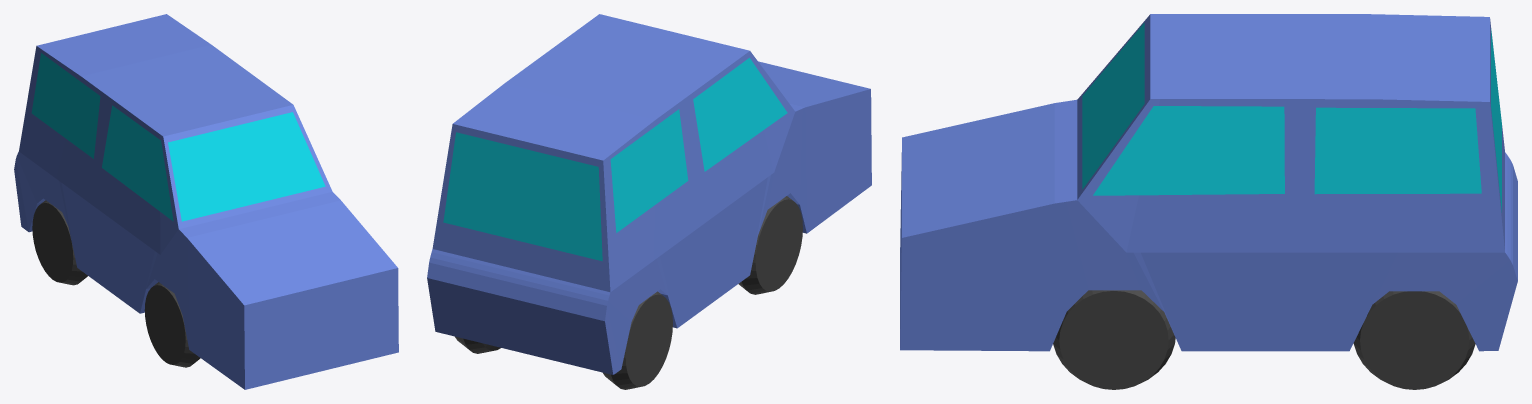
File: BlueVan.fbx
The picture shows the model from 3 angles, left to right: view 1: azimuth 30°, elevation 25°; view 2: azimuth 150°, elevation 25°; view 3: azimuth 270°, elevation 25°; orthographic projection. The views are drawn at different scales.
Parts seen in each view (by area): view 1: Cube, Plane, Plane.003, Plane.005, Cylinder, Cylinder.001; view 2: Cube, Plane.001, Plane.003, Plane.005, Cylinder.001, Cylinder; view 3: Cube, Plane.002, Plane.004, Cylinder, Cylinder.001, Plane, Plane.001.
Part boxes in pixels (x1,y1,x2,y2): Cube: [14, 14, 398, 389]; Plane: [168, 112, 325, 221]; Plane.003: [102, 105, 173, 221]; Plane.005: [31, 53, 100, 158]; Cylinder: [144, 282, 200, 367]; Cylinder.001: [32, 200, 87, 285]; Cube: [427, 14, 871, 374]; Plane.001: [443, 132, 602, 261]; Plane.003: [693, 58, 787, 171]; Plane.005: [610, 109, 688, 232]; Cylinder.001: [455, 291, 672, 389]; Cylinder: [738, 196, 802, 294]; Cube: [900, 14, 1517, 351]; Plane.002: [1093, 106, 1284, 195]; Plane.004: [1314, 107, 1481, 194]; Cylinder: [1053, 290, 1175, 389]; Cylinder.001: [1353, 291, 1475, 389]; Plane: [1082, 23, 1144, 189]; Plane.001: [1491, 29, 1501, 212].
Bounding box in the file's own units: 7057 × 9532 × 18311.
